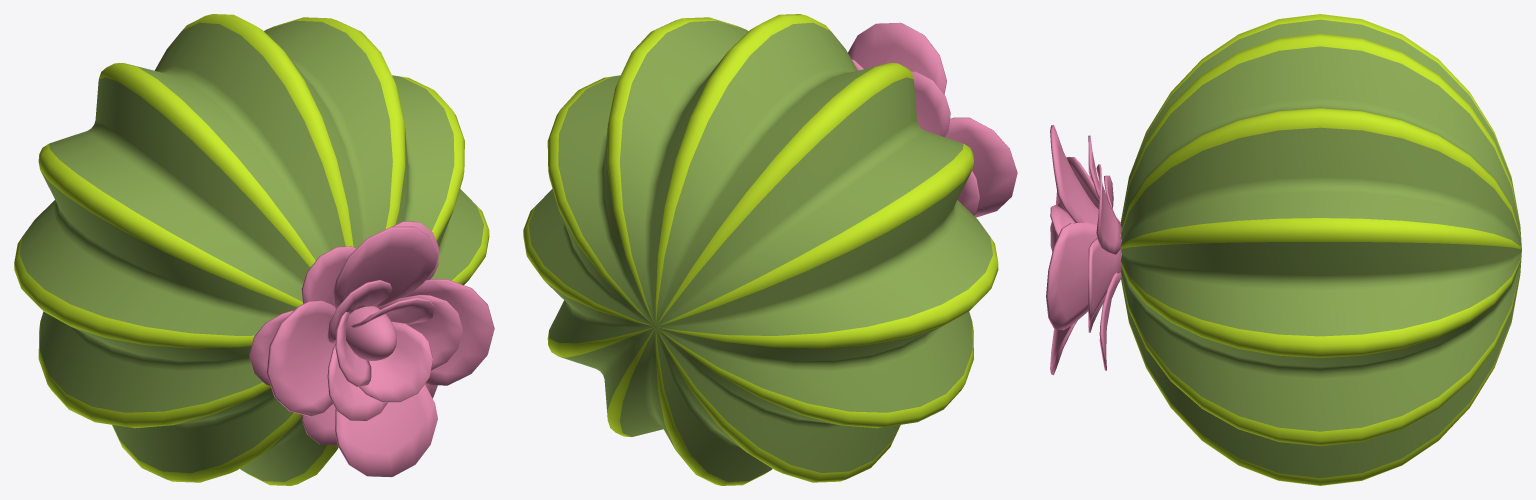
Rendered from animation_test.glb.
3 views of the same model, side by side, from view 1: azimuth 30°, elevation 25°; view 2: azimuth 150°, elevation 25°; view 3: azimuth 270°, elevation 25° (orthographic). The views are drawn at different scales.
Visible parts, largest first — view 1: Round Kaktus.002; view 2: Round Kaktus.002; view 3: Round Kaktus.002.
Part boxes in pixels (x1,y1,x2,y2): Round Kaktus.002: (14,14,494,485); Round Kaktus.002: (523,14,1017,485); Round Kaktus.002: (1046,14,1521,485).
Size of the model in its own units: 2.84 by 2.84 by 2.86.
